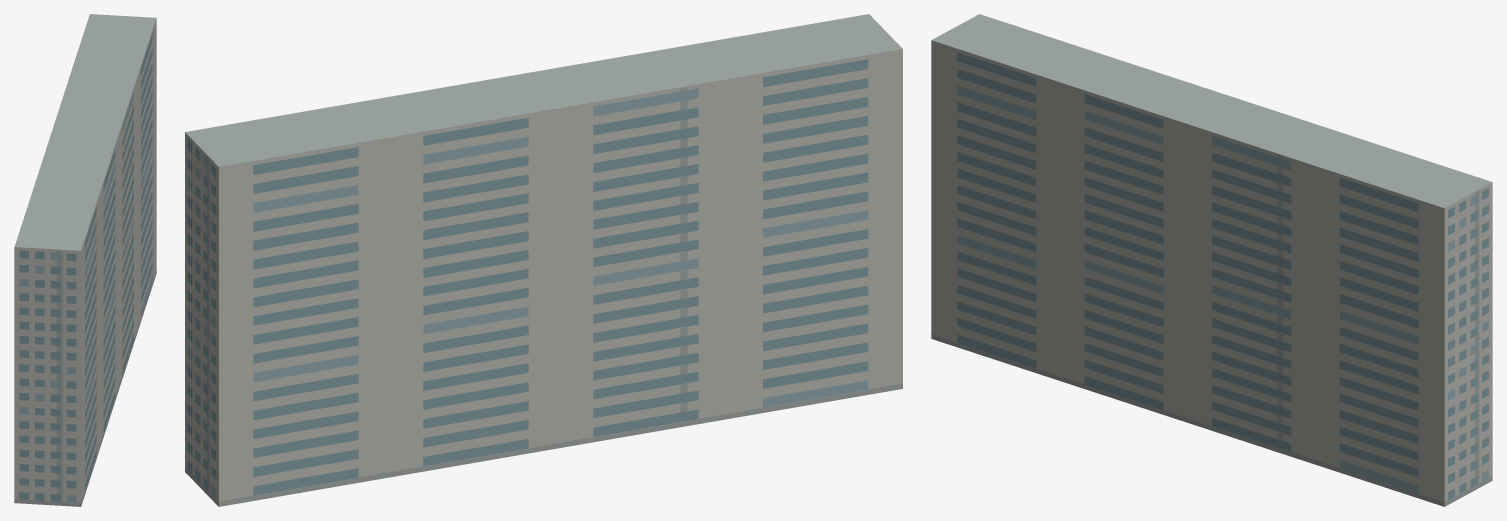
Rendered from residential-98685f8f-d72a-49d3-bfd2-426781edff06.glb.
3 renders of one model, left to right at view 1: azimuth 30°, elevation 25°; view 2: azimuth 150°, elevation 25°; view 3: azimuth 270°, elevation 25°, orthographic. The views are drawn at different scales.
Parts seen in each view (by area): view 1: residential-98685f8f-d72a-49d3-bfd2-426781edff06.tmp; view 2: residential-98685f8f-d72a-49d3-bfd2-426781edff06.tmp; view 3: residential-98685f8f-d72a-49d3-bfd2-426781edff06.tmp.
Part boxes in pixels (box(x1,y1,x2,y2)): residential-98685f8f-d72a-49d3-bfd2-426781edff06.tmp: box(14, 14, 156, 506); residential-98685f8f-d72a-49d3-bfd2-426781edff06.tmp: box(185, 14, 902, 506); residential-98685f8f-d72a-49d3-bfd2-426781edff06.tmp: box(931, 14, 1492, 506).
Size of the model in its own units: 76.6 by 54.9 by 93.48.
